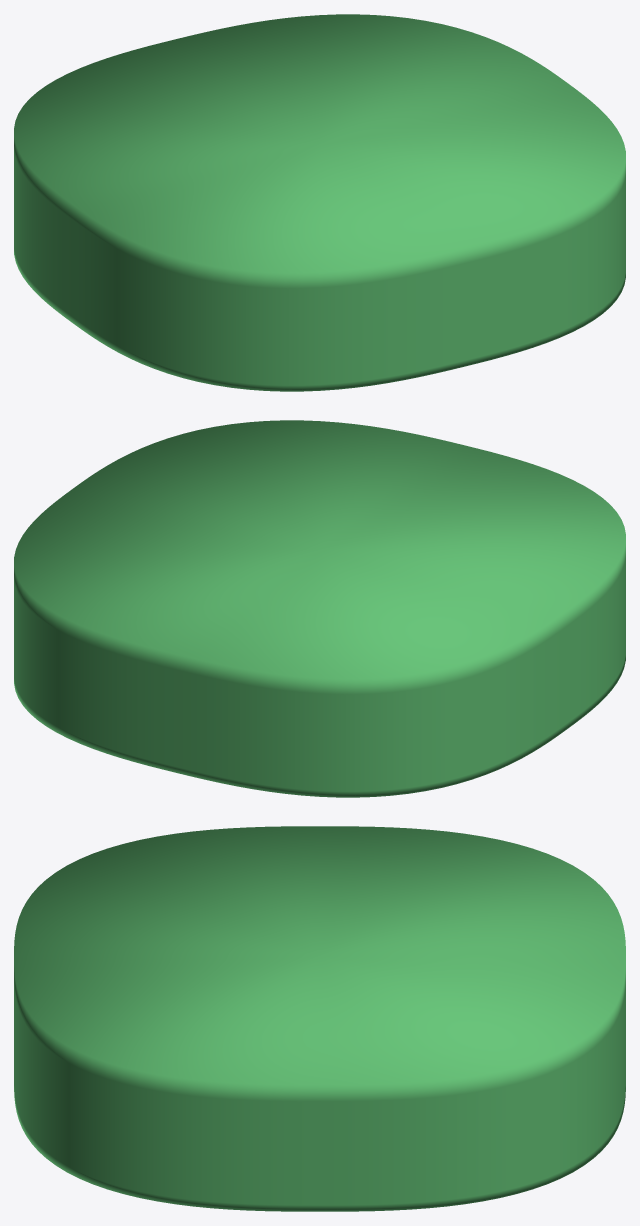
File: recipe-jello-mould-foundation.glb
The picture shows the model from 3 angles, top to bottom: view 1: azimuth 30°, elevation 25°; view 2: azimuth 150°, elevation 25°; view 3: azimuth 270°, elevation 25°; orthographic projection. The views are drawn at different scales.
Visible parts, largest first — view 1: Fluted mould matching terrain foundation; view 2: Fluted mould matching terrain foundation; view 3: Fluted mould matching terrain foundation.
Boxes of the visible parts, x1=… form: Fluted mould matching terrain foundation: x1=14, y1=14, x2=625, y2=391; Fluted mould matching terrain foundation: x1=14, y1=420, x2=625, y2=797; Fluted mould matching terrain foundation: x1=14, y1=826, x2=625, y2=1211.
Bounding box in the file's own units: 5.03 × 1.15 × 5.03.
